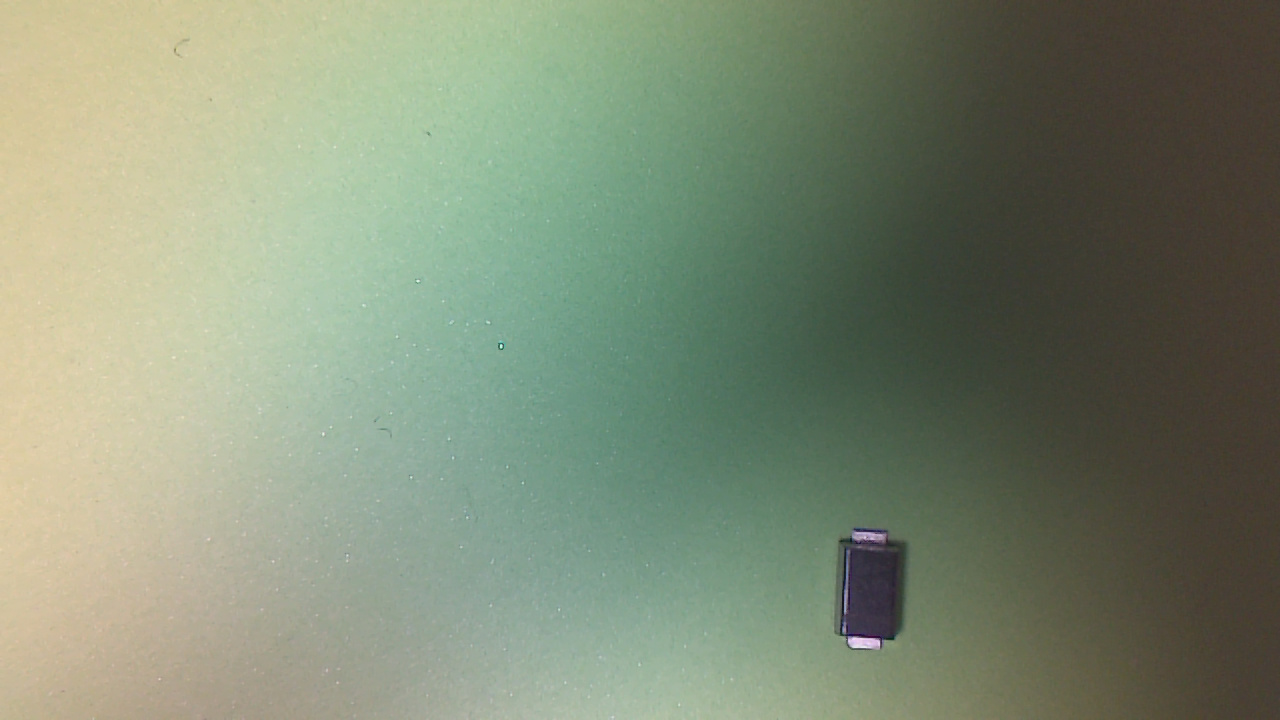Diode: (837, 530, 906, 656)
